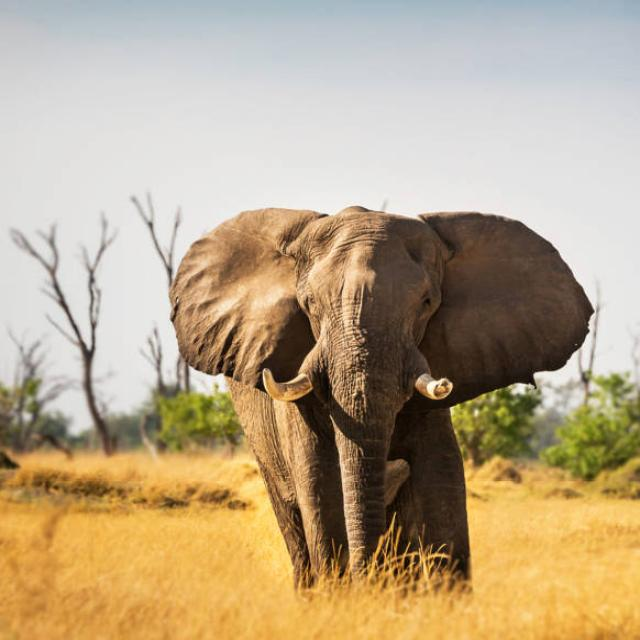Elephant: (155, 172, 583, 640)
